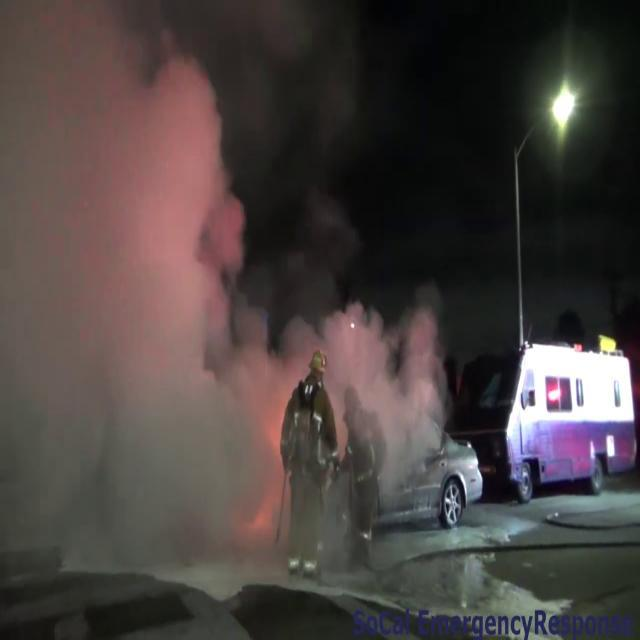Smoke: (0, 1, 258, 632), (278, 282, 456, 506)
